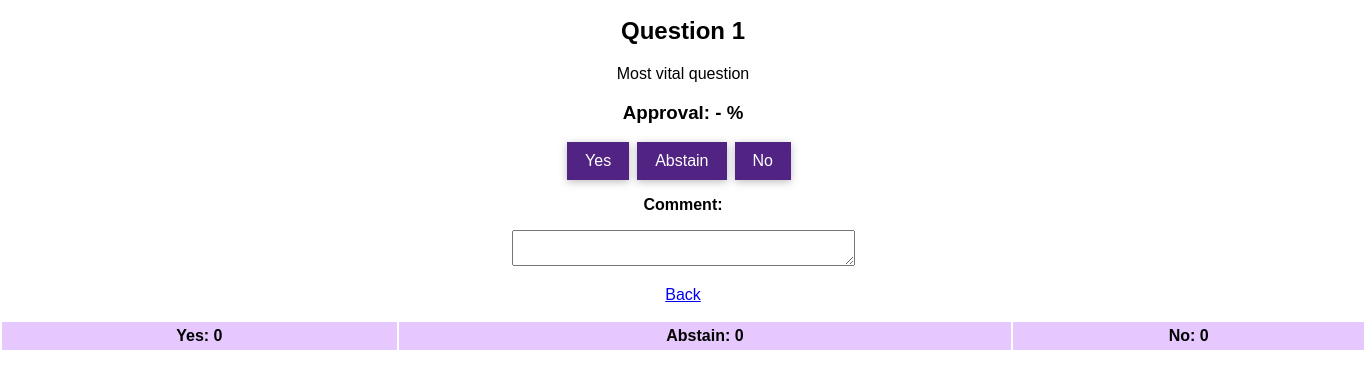
Test: Test QuestionView › shows buttons which can be used to cast vote
This screenshot has width=1366, height=388.
Expected: the heading "Question 1" is shown, [621,17,745,44]
Expected: the text "Most vital question" is shown, [617,65,749,82]
Click the button with id "answer-yes-btn". click: (598, 161)
box: [567,142,629,180]
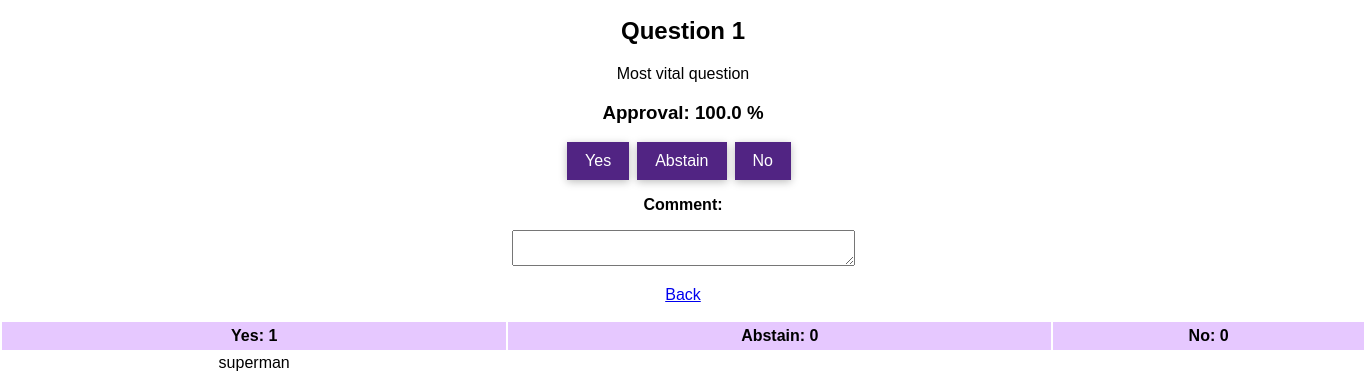
Now the text "superman" is shown, box [219,354,290,371]
Now the heading with id "approval-title" reads "Approval: 100.0 %", box [602,102,764,122]
Click the button with id "answer-no-btn". click: (763, 161)
box: [734,142,791,180]
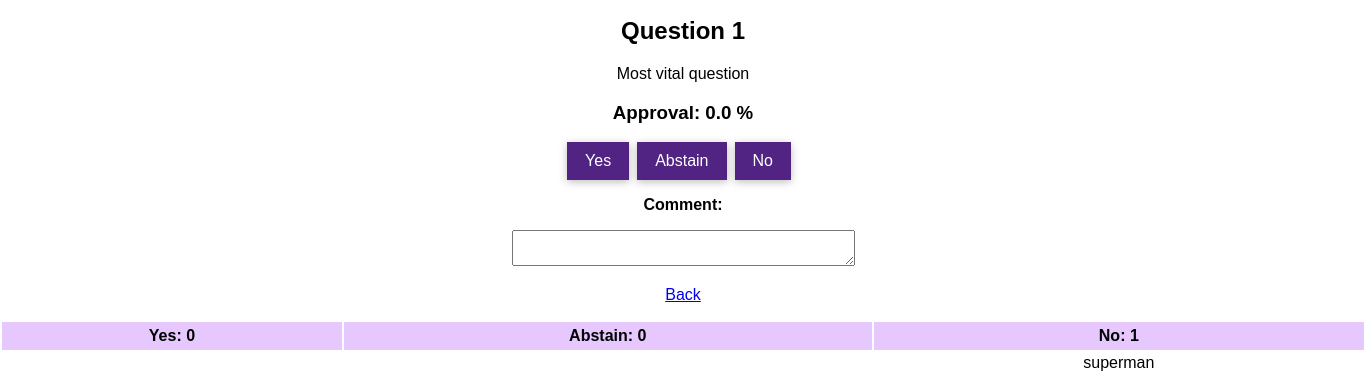
Now the text "superman" is shown, box [1083,354,1154,371]
Now the heading with id "approval-title" reads "Approval: 0.0 %", box [613,102,753,122]
Click the button with id "answer-abstain-btn". click: (682, 161)
box: [637,142,726,180]
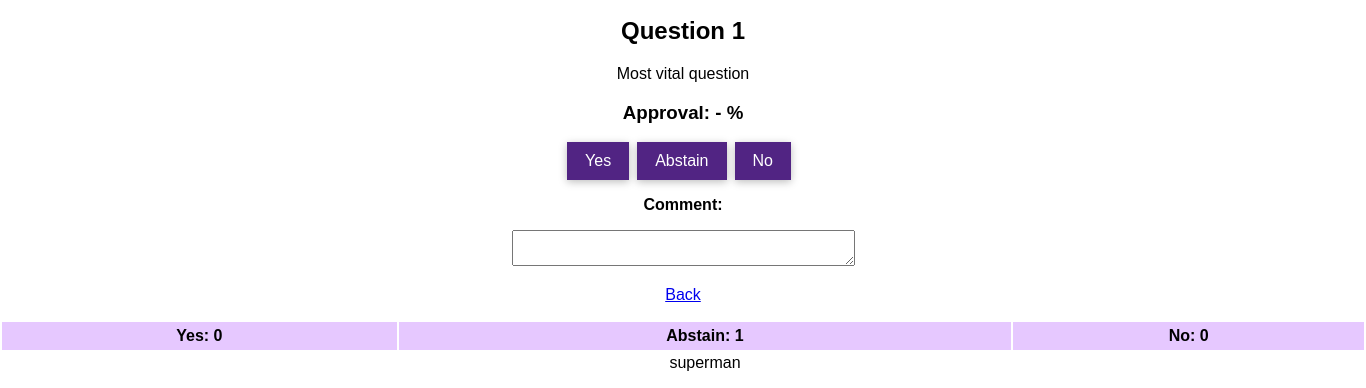
Now the text "superman" is shown, box [669,354,741,371]
Now the heading with id "approval-title" reads "Approval: - %", box [623,102,743,122]
